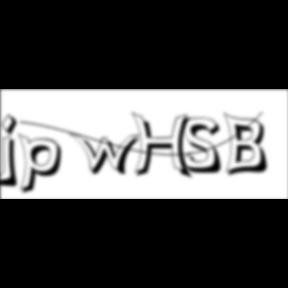B: (224, 111, 274, 179)
H: (131, 112, 197, 182)
S: (182, 117, 228, 176)
j: (1, 113, 25, 191)
p: (18, 132, 68, 198)
w: (70, 132, 148, 178)
